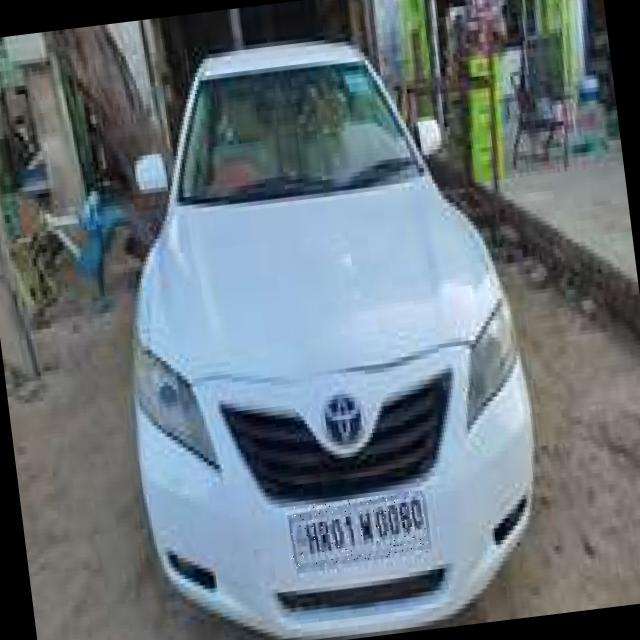Plate: (284, 491, 431, 571)
